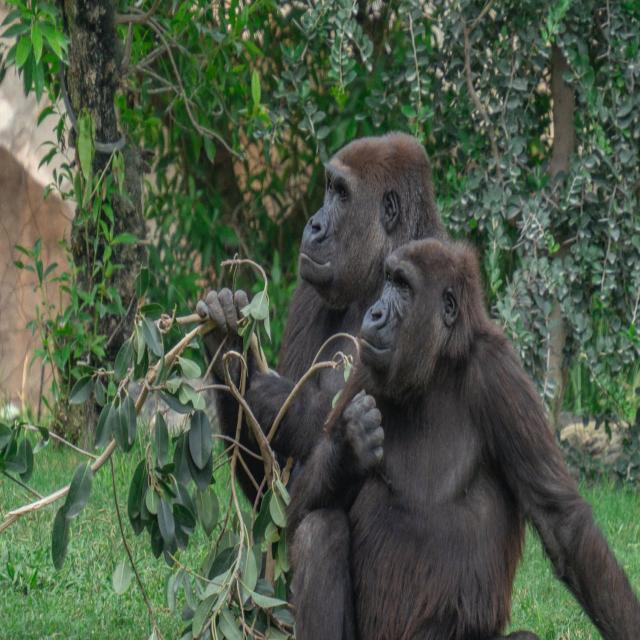Gorilla: (283, 241, 640, 640), (197, 131, 454, 640)
